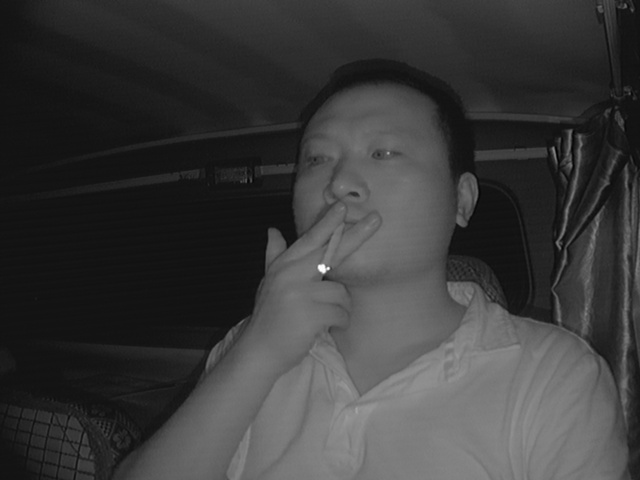hand: (285, 206, 387, 327)
